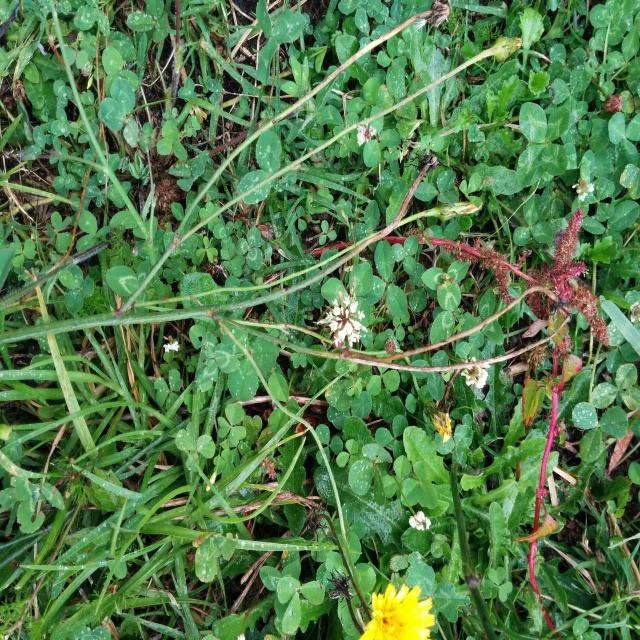Four Leaf Clover: (516, 103, 570, 188)
